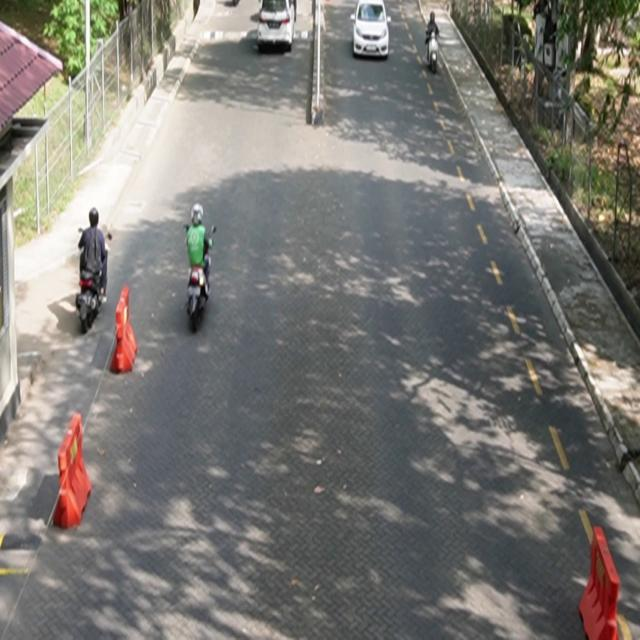car: (351, 1, 392, 60), (258, 1, 297, 53)
